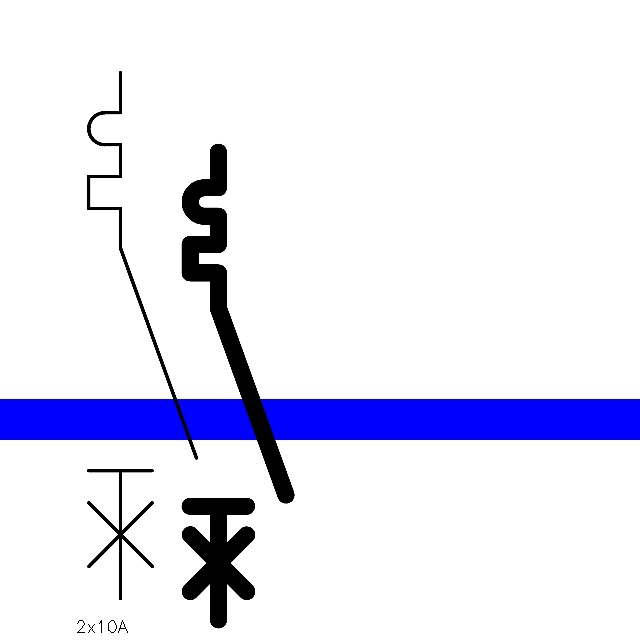interruptor_termomagnetico: (75, 59, 210, 611), (178, 140, 298, 631)
